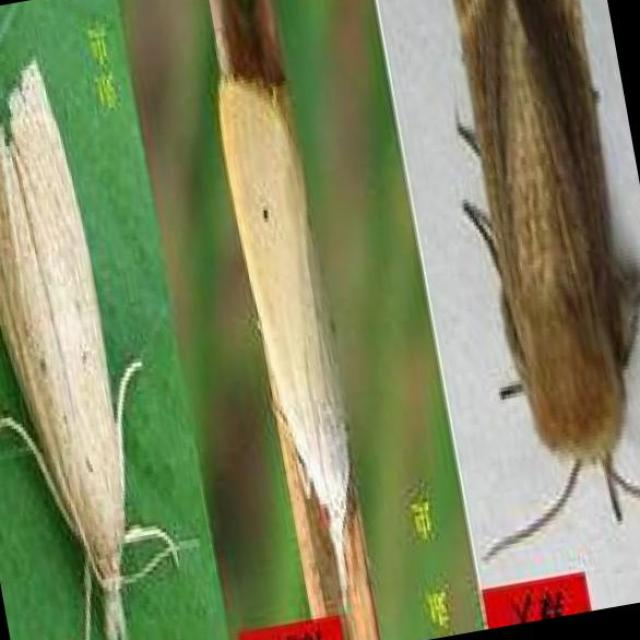stem borer: (453, 0, 640, 557), (0, 67, 179, 640), (217, 0, 352, 590)
